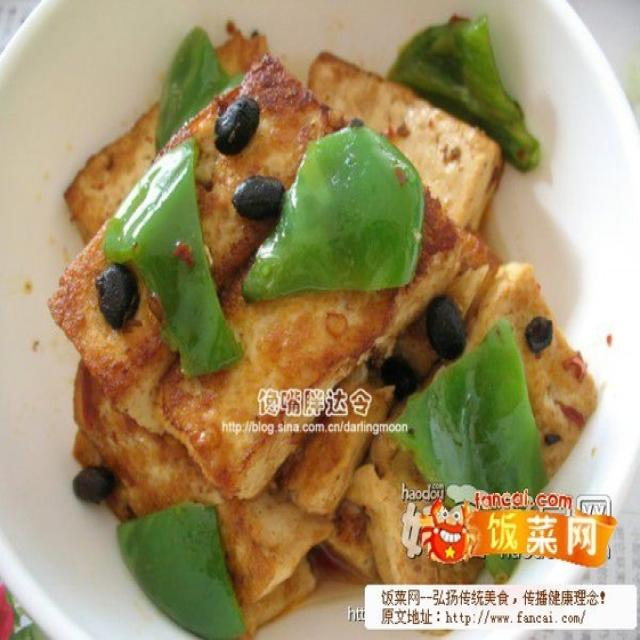豆腐料理: (6, 13, 630, 623)
